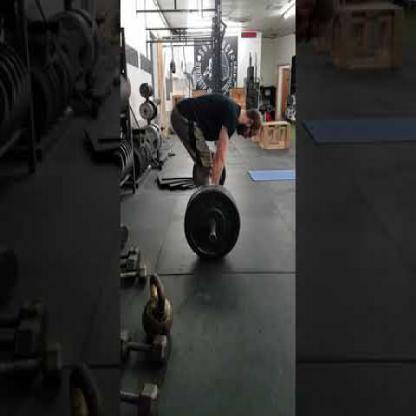Barbell: (179, 181, 244, 266)
